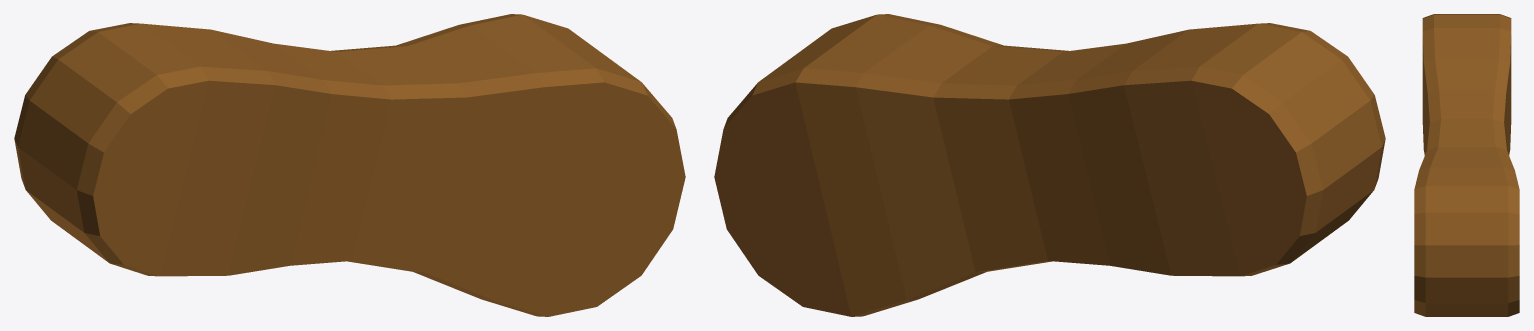
The model's file is zippoAttachment.fbx.
3 views of the same model, side by side, from view 1: azimuth 30°, elevation 25°; view 2: azimuth 150°, elevation 25°; view 3: azimuth 270°, elevation 25° (orthographic). The views are drawn at different scales.
Parts seen in each view (by area): view 1: ATTACHMENT; view 2: ATTACHMENT; view 3: ATTACHMENT.
Part boxes in pixels (bbox=[...]): ATTACHMENT: bbox=[14, 14, 685, 316]; ATTACHMENT: bbox=[714, 14, 1385, 316]; ATTACHMENT: bbox=[1414, 14, 1519, 316].
Size of the model in its own units: 10.11 by 2.74 by 5.31.
